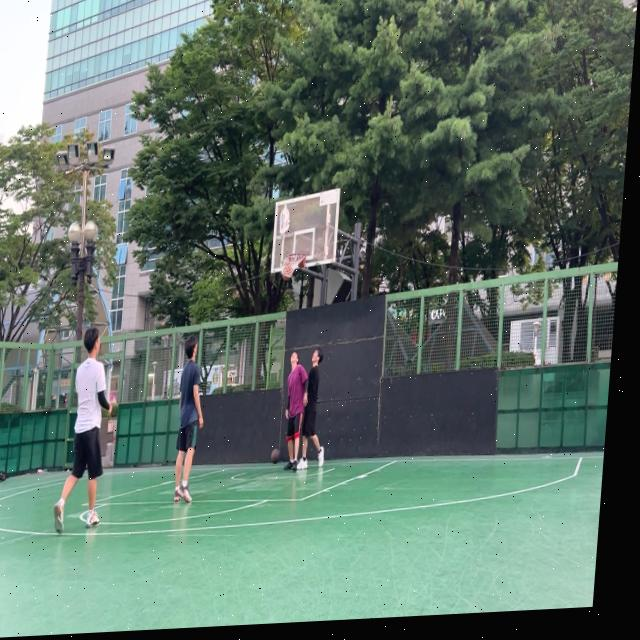basketball: (281, 263, 292, 280), (271, 448, 280, 465)
hoop: (278, 252, 306, 280), (279, 252, 307, 277)
